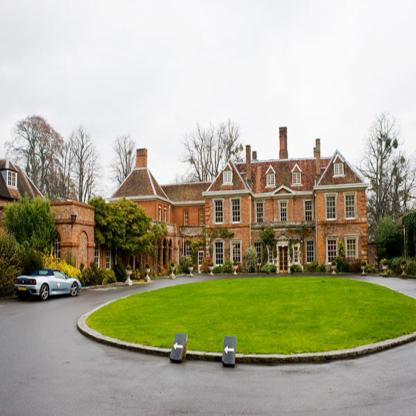Car: (12, 264, 82, 309)
